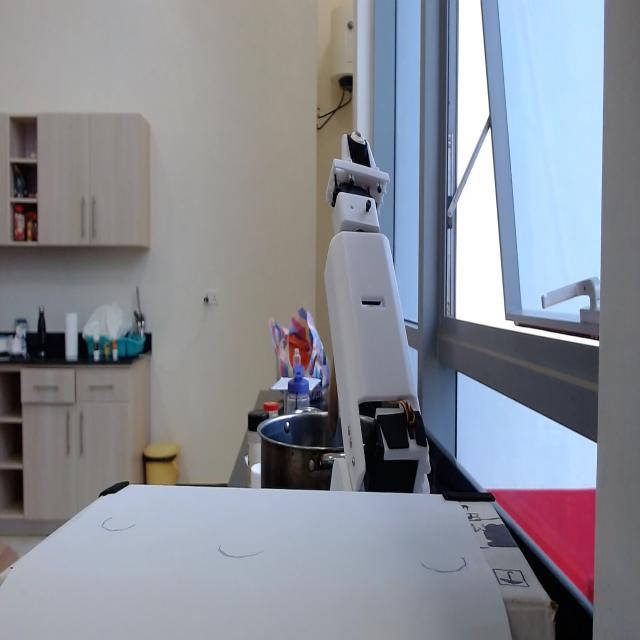cooking_pot: (263, 394, 342, 482)
